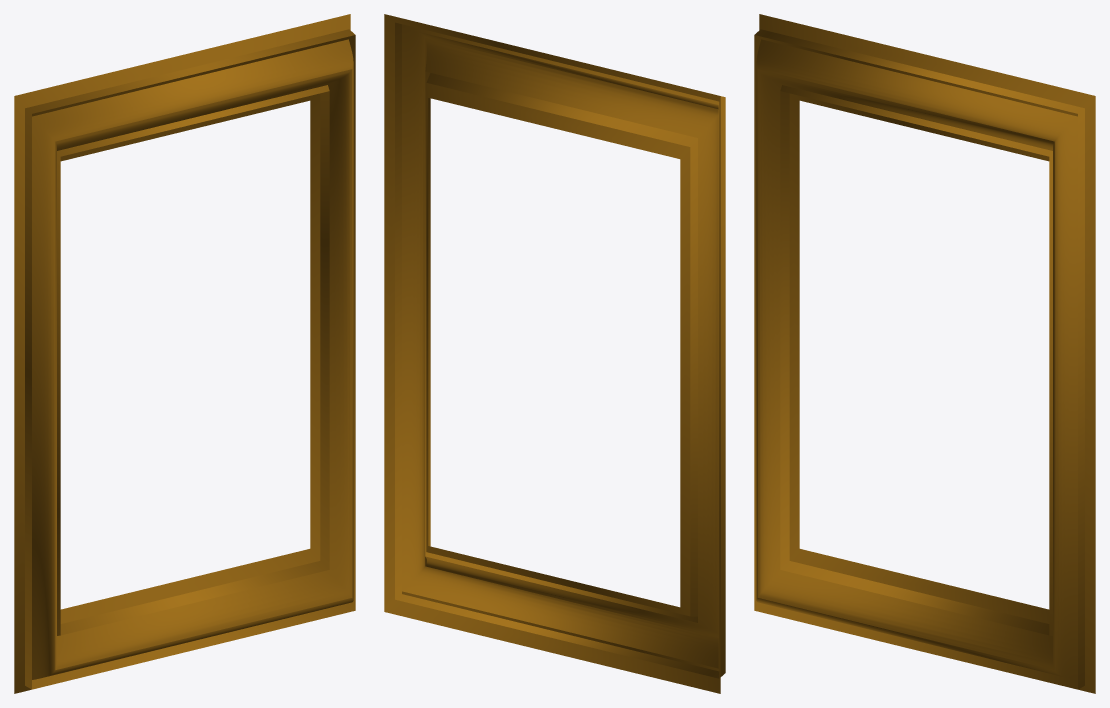
The model's file is Picture_Frame_Export_Corners.fbx.
3 views of the same model, side by side, from view 1: azimuth 30°, elevation 25°; view 2: azimuth 150°, elevation 25°; view 3: azimuth 330°, elevation 25° (orthographic).
Parts seen in each view (by area): view 1: Rectangle001; view 2: Rectangle001; view 3: Rectangle001.
Part boxes in pixels (x1,y1,x2,y2): Rectangle001: (14,14,355,693); Rectangle001: (384,14,725,693); Rectangle001: (754,14,1095,693).
Bounding box in the file's own units: 836 × 1422 × 92.29.
